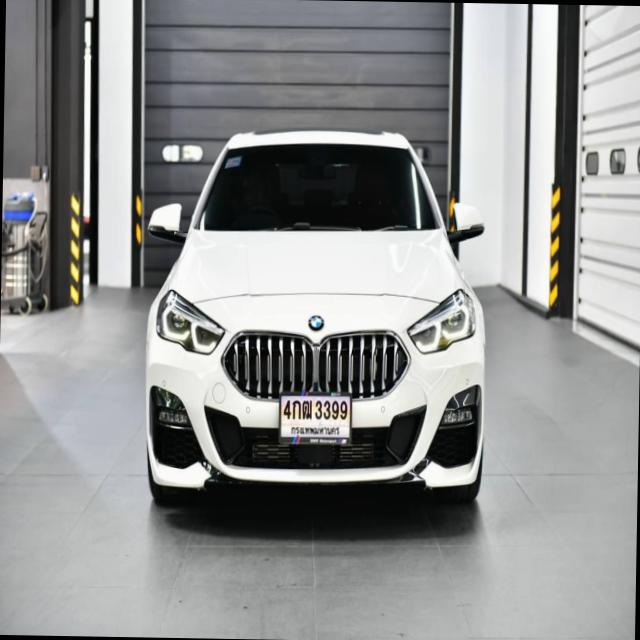license_plate: (278, 389, 353, 446)
